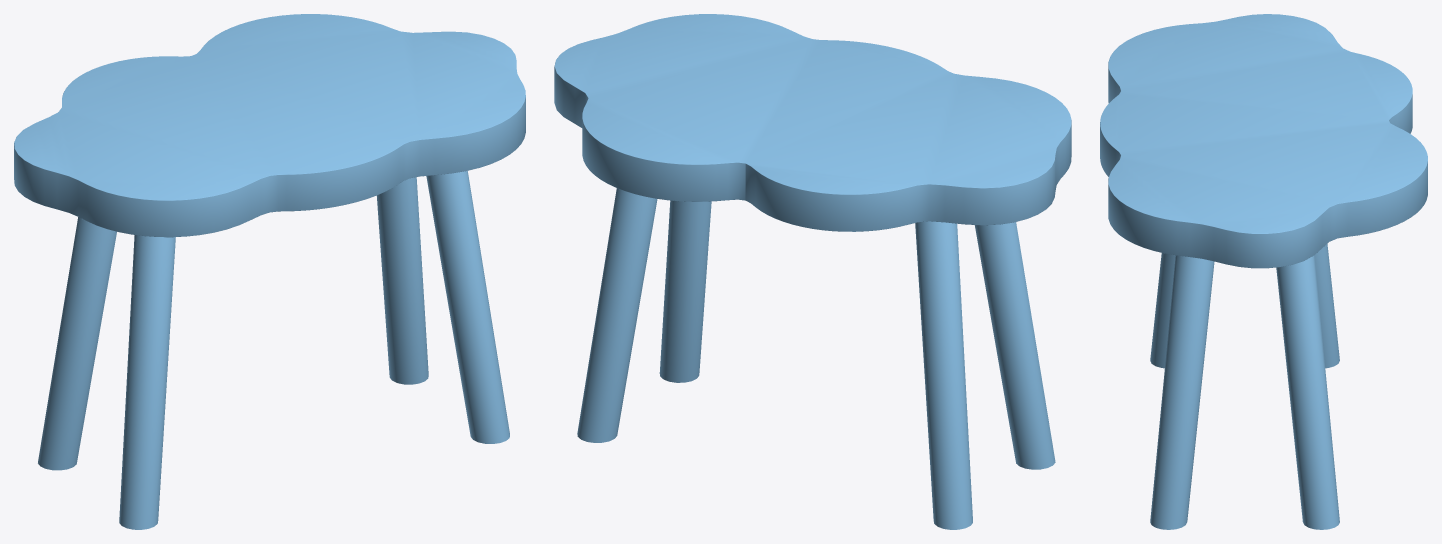
Rendered from mesa_lateral_nuvem_azul.glb.
3 views of the same model, side by side, from view 1: azimuth 30°, elevation 25°; view 2: azimuth 150°, elevation 25°; view 3: azimuth 270°, elevation 25° (orthographic). The views are drawn at different scales.
Visible parts, largest first — view 1: mesa_lateral_nuvem_azul; view 2: mesa_lateral_nuvem_azul; view 3: mesa_lateral_nuvem_azul.
Boxes of the visible parts, <box> form: mesa_lateral_nuvem_azul: <box>14,14,525,529</box>; mesa_lateral_nuvem_azul: <box>554,14,1071,529</box>; mesa_lateral_nuvem_azul: <box>1100,14,1427,529</box>.
Bounding box in the file's own units: 0.6818 × 0.46 × 0.4294.
Materials: 1 (1 with a texture image).
